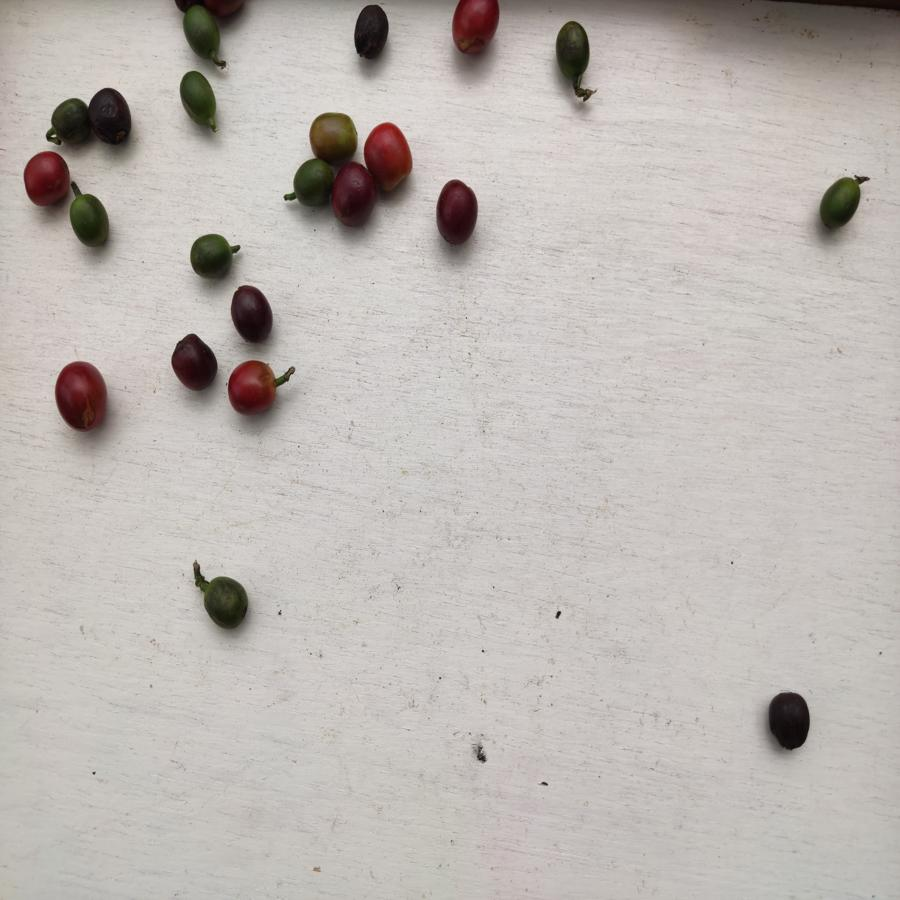Inmaduro: (175, 69, 224, 127), (820, 171, 864, 234), (182, 4, 228, 63), (66, 195, 115, 250), (203, 577, 255, 628), (554, 16, 594, 79), (292, 157, 333, 209), (45, 99, 88, 147), (190, 235, 235, 279)
Maduro: (362, 121, 414, 188), (17, 151, 69, 212), (223, 361, 279, 415), (449, 1, 500, 56)
Pinton: (304, 109, 363, 162)
Sobremaduro: (54, 360, 107, 435), (229, 286, 281, 345), (329, 164, 378, 226), (763, 690, 811, 752), (435, 180, 480, 246), (165, 334, 217, 389), (87, 86, 134, 146), (352, 4, 392, 60)
